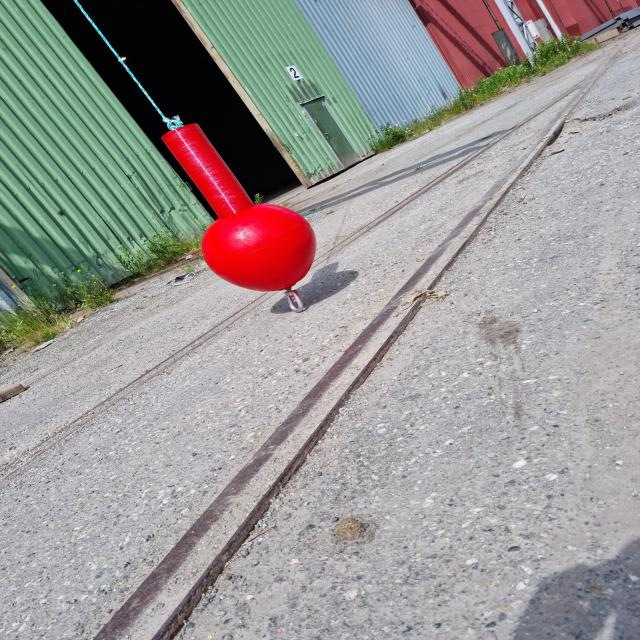red: (158, 124, 316, 292)
